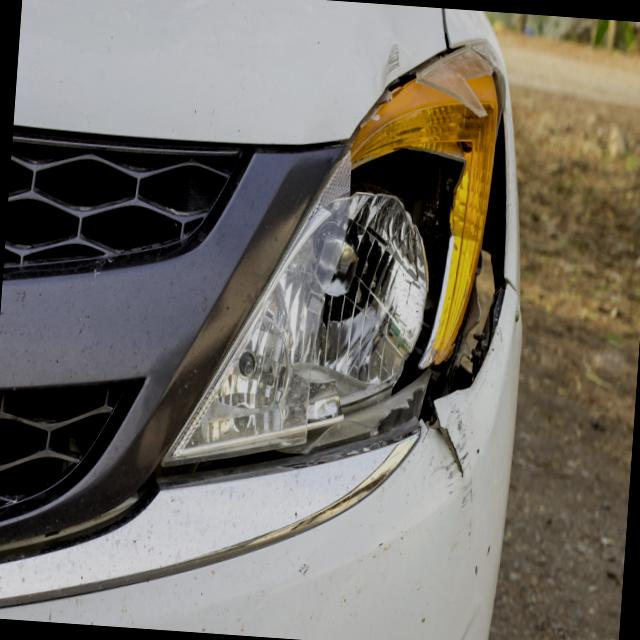Dechirure: (417, 397, 468, 490)
Phare abime: (304, 38, 521, 460)
